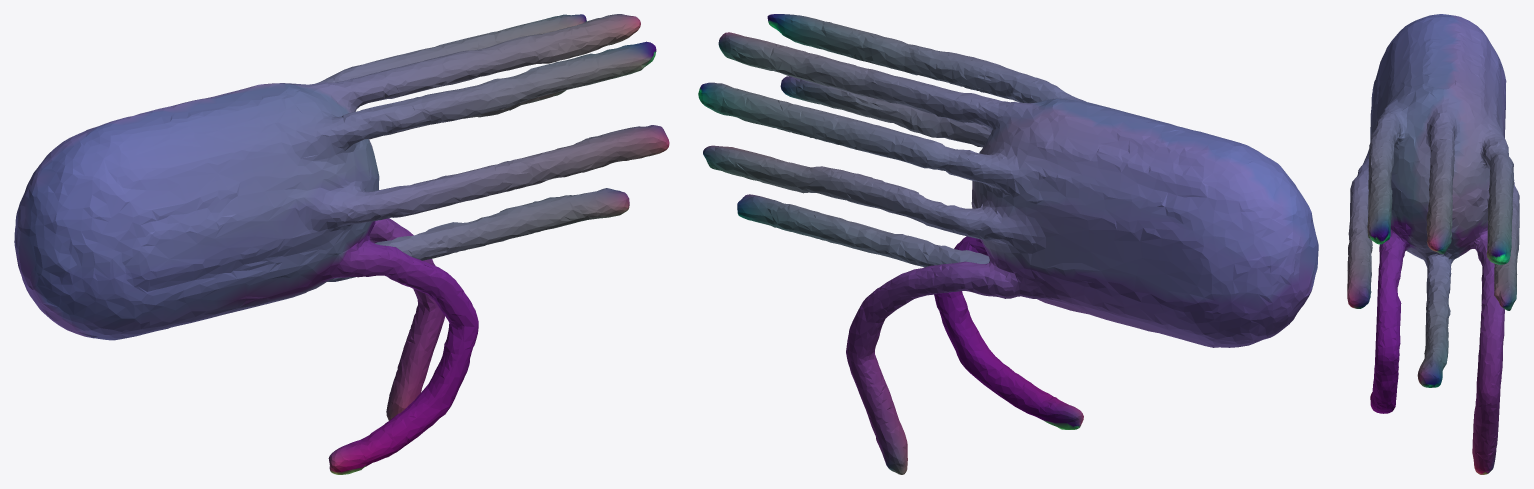
File: octopus-11.off.obj
The picture shows the model from 3 angles, left to right: view 1: azimuth 30°, elevation 25°; view 2: azimuth 150°, elevation 25°; view 3: azimuth 270°, elevation 25°; orthographic projection. The views are drawn at different scales.
Bounding box in the file's own units: 1.66 × 1.03 × 0.4888.
